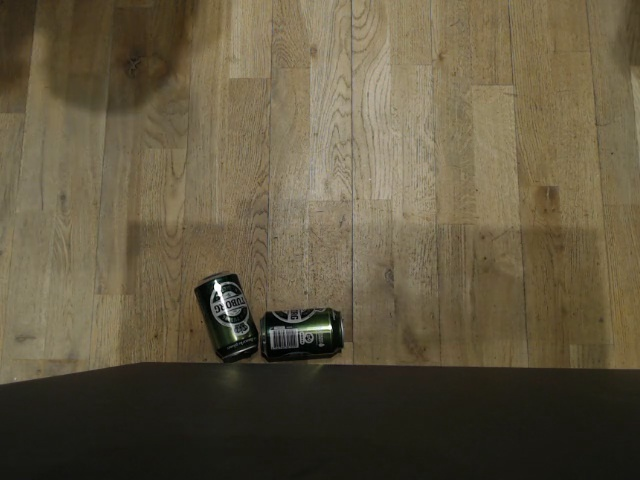beer: (196, 271, 258, 363), (260, 307, 344, 362)
